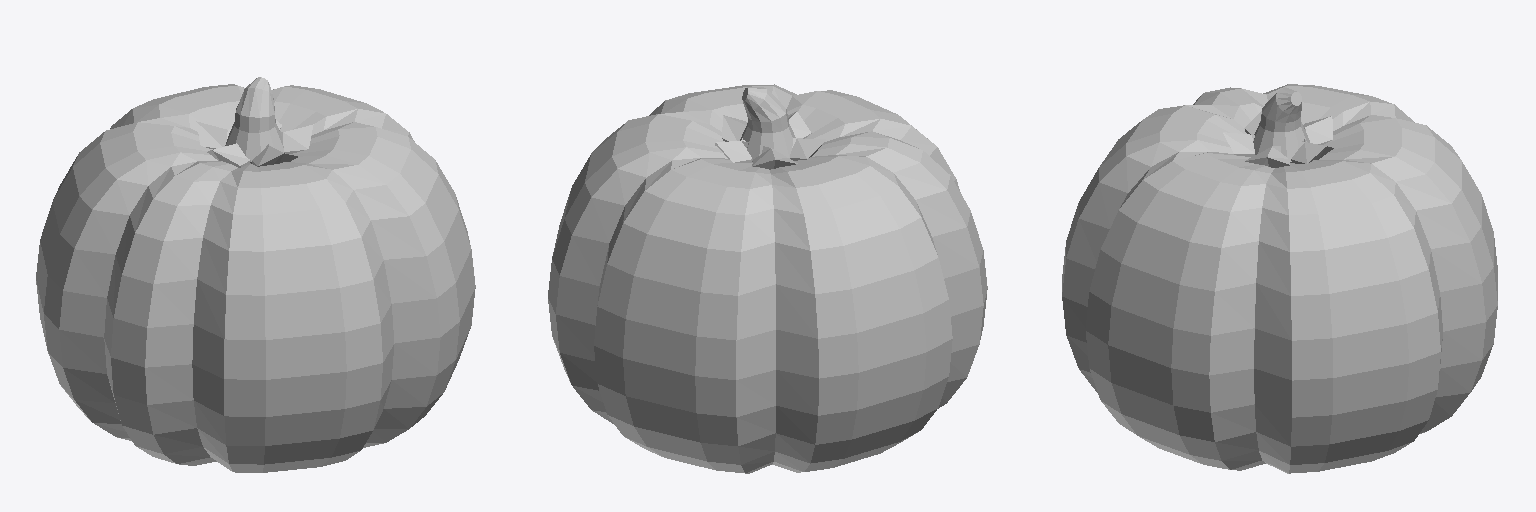
File: pumpkinSmall.obj
The picture shows the model from 3 angles: view 1: azimuth 30°, elevation 25°; view 2: azimuth 150°, elevation 25°; view 3: azimuth 270°, elevation 25°; orthographic projection.
Parts seen in each view (by area): view 1: pumpkinSmall_Sphere.002; view 2: pumpkinSmall_Sphere.002; view 3: pumpkinSmall_Sphere.002.
Boxes of the visible parts, <box> form: pumpkinSmall_Sphere.002: <box>36,77,475,472</box>; pumpkinSmall_Sphere.002: <box>548,84,987,473</box>; pumpkinSmall_Sphere.002: <box>1062,84,1497,473</box>.
Size of the model in its own units: 0.536 by 0.4574 by 0.5305.